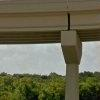Bridge: (5, 3, 89, 67)
